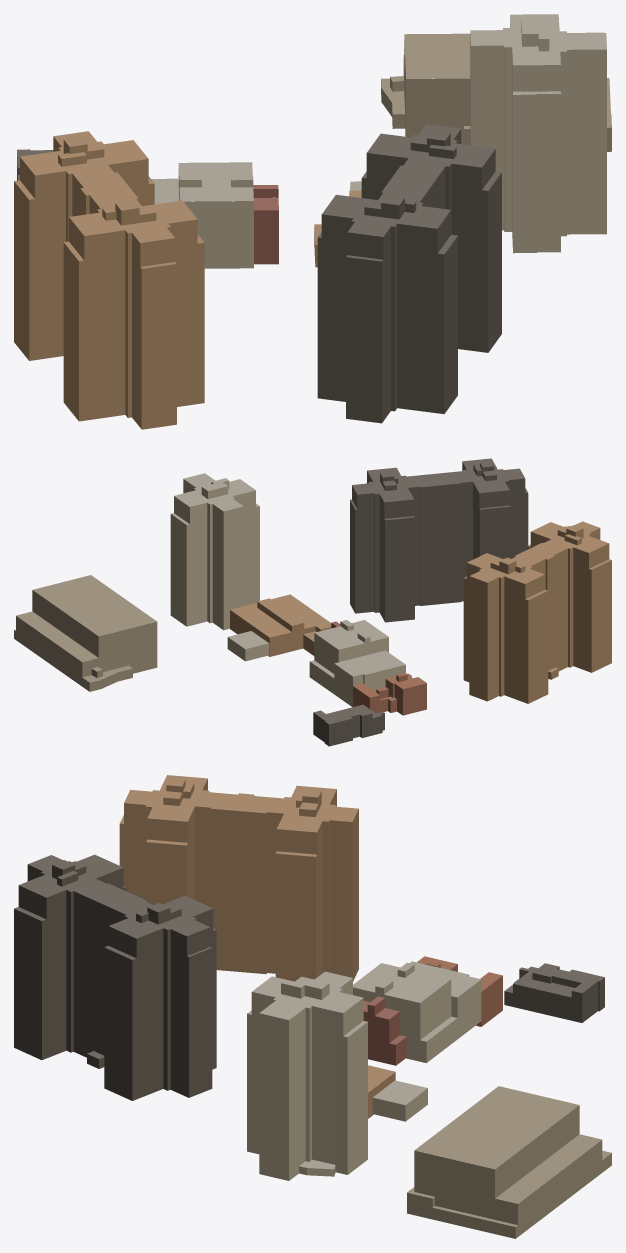
File: tile--1_-10.glb
The picture shows the model from 3 angles, top to bottom: view 1: azimuth 30°, elevation 25°; view 2: azimuth 150°, elevation 25°; view 3: azimuth 270°, elevation 25°; orthographic projection. The views are drawn at different scales.
Visible parts, largest first — view 1: wall, roof; view 2: wall, roof; view 3: wall, roof.
Part boxes in pixels (x1=…): wall: x1=14, y1=15, x2=611, y2=429; roof: x1=14, y1=14, x2=611, y2=268; wall: x1=14, y1=462, x2=611, y2=746; roof: x1=14, y1=458, x2=611, y2=724; wall: x1=14, y1=779, x2=611, y2=1238; roof: x1=14, y1=775, x2=611, y2=1226.
Size of the model in its own units: 248 by 66.35 by 202.
